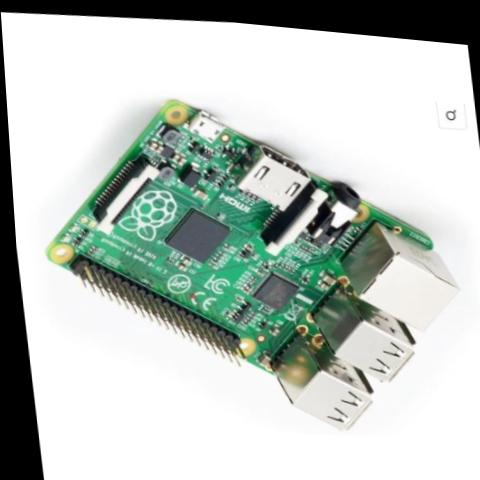Raspberry-Pi-1-Model-B-: (16, 65, 478, 455)
